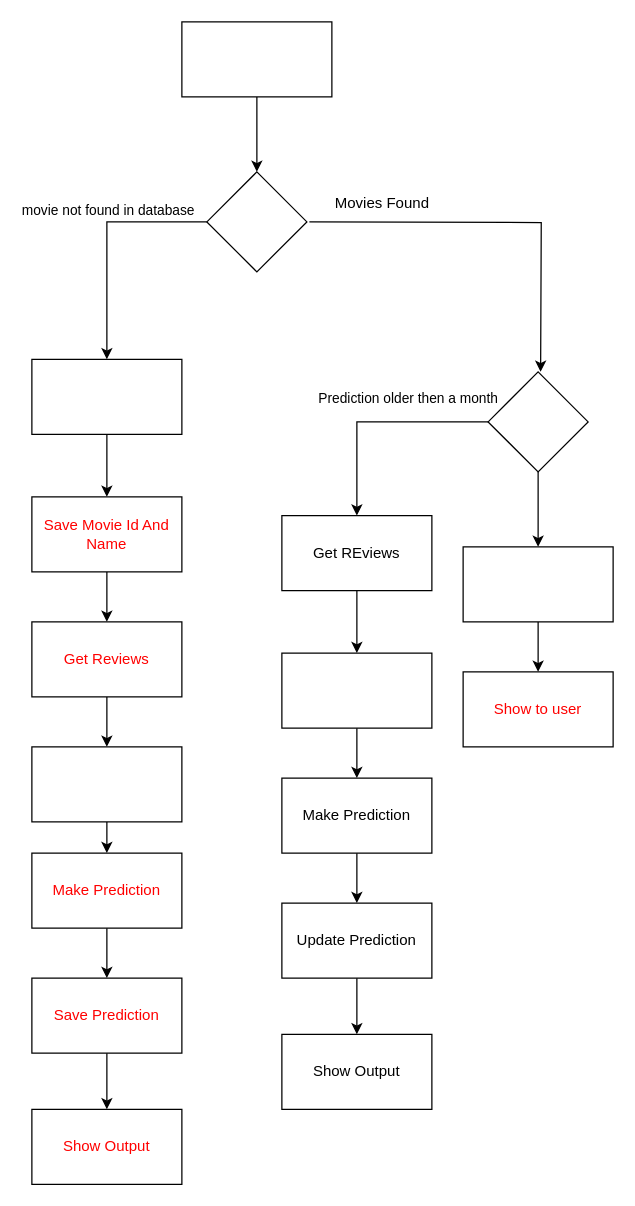
Image size: 635x1206. Some labels were removed from this diagram. The shapes that lost their labels are listed below. From the top down, each one's centre as x and y in pixels, then its label:
At point (256, 59): "search movie".
At point (106, 396): "Get Movie Id".
At point (537, 584): "Get Data From Database".
At point (356, 690): "Update Reviews".
At point (106, 784): "Save Reviews".
